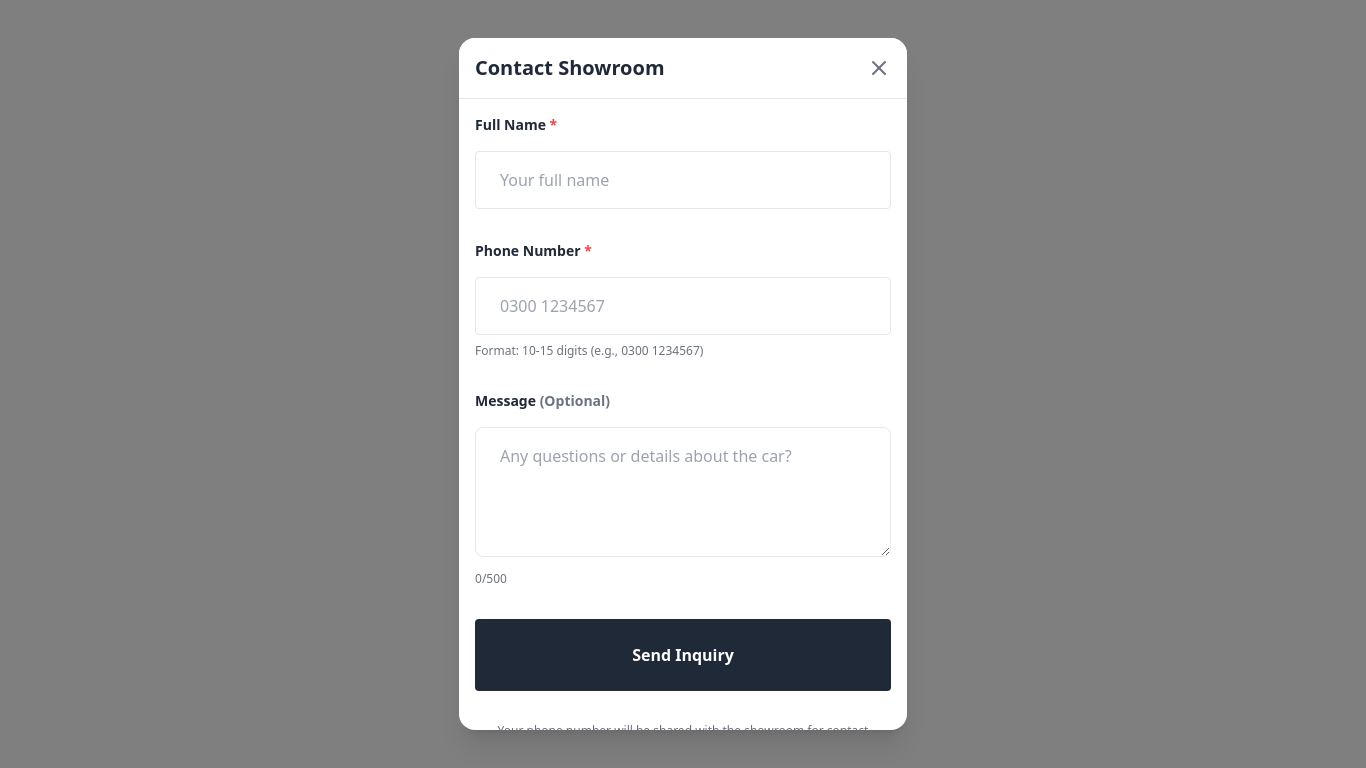
Test: InquiryModal Component › Message Counter › should display message character count
This screenshot has width=1366, height=768.
Type "Test message" into the text box with placeholder "Any questions or details about the car?" at (683, 492), box x1=475 y1=427 x2=891 y2=557
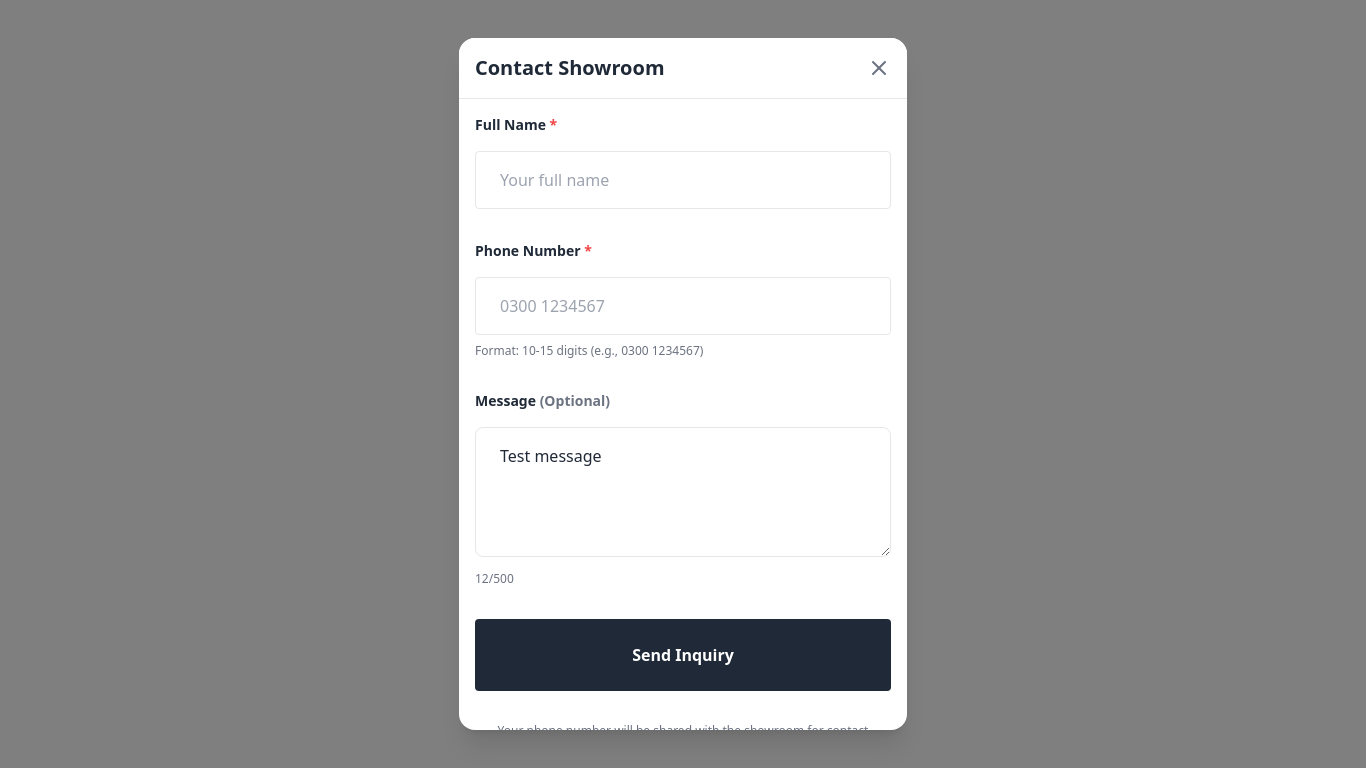
Expected: the text "12/500" is shown, x1=475 y1=571 x2=514 y2=587
